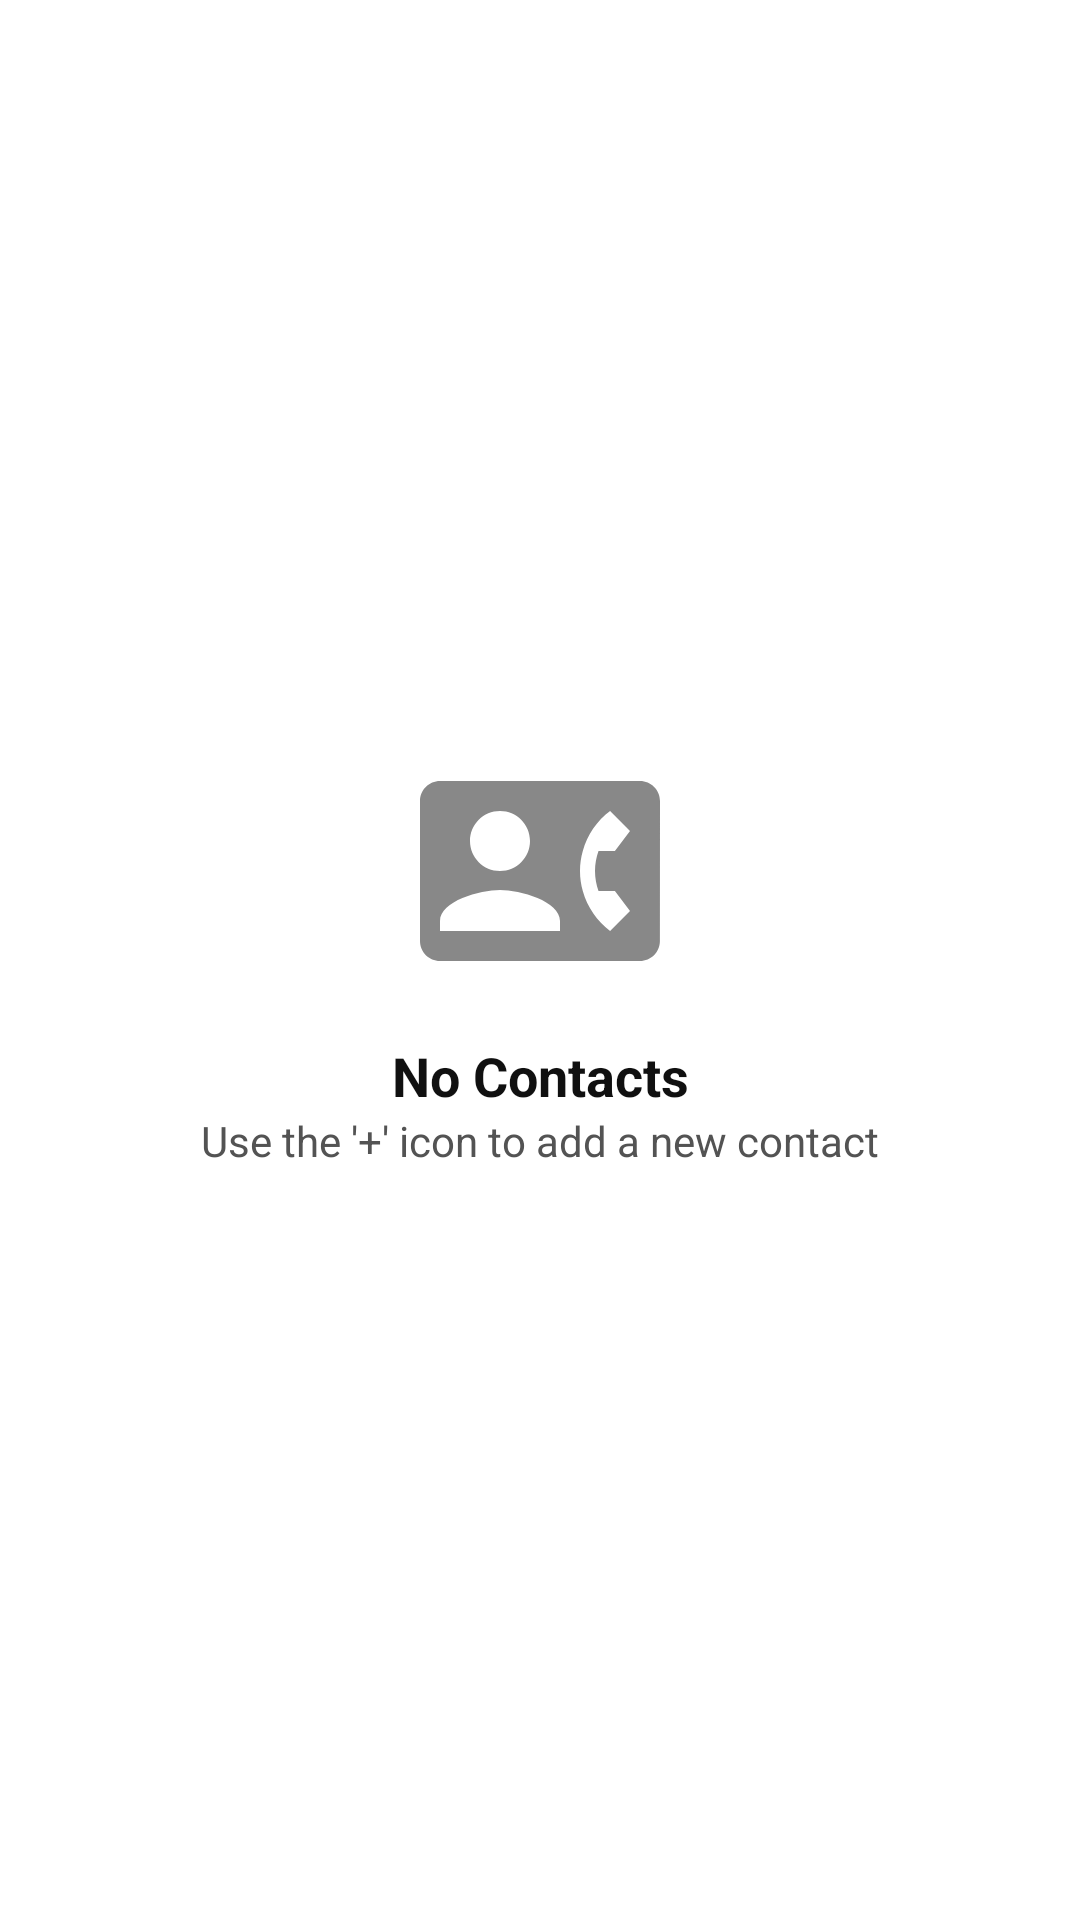

Where to tap for icons on this 1080 x 1920 app screen, as [x,y]:
contact phone: [540,871]
